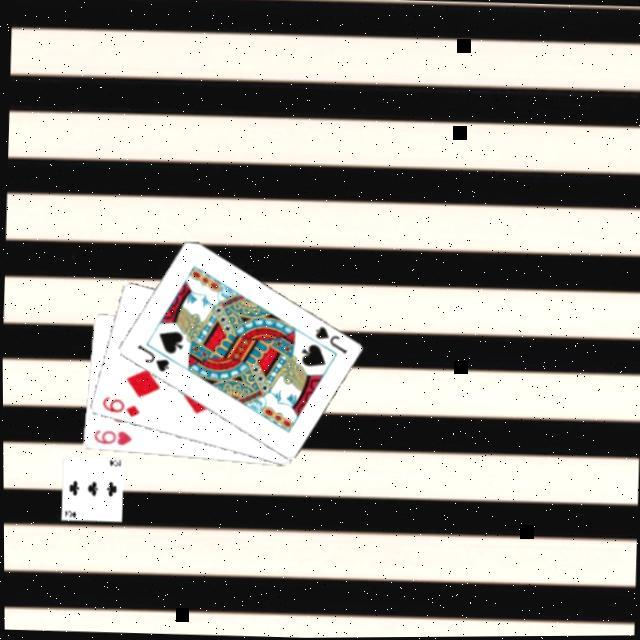6D: (96, 395, 140, 423)
6H: (86, 428, 132, 451)
JS: (308, 324, 347, 359), (130, 343, 170, 377)
